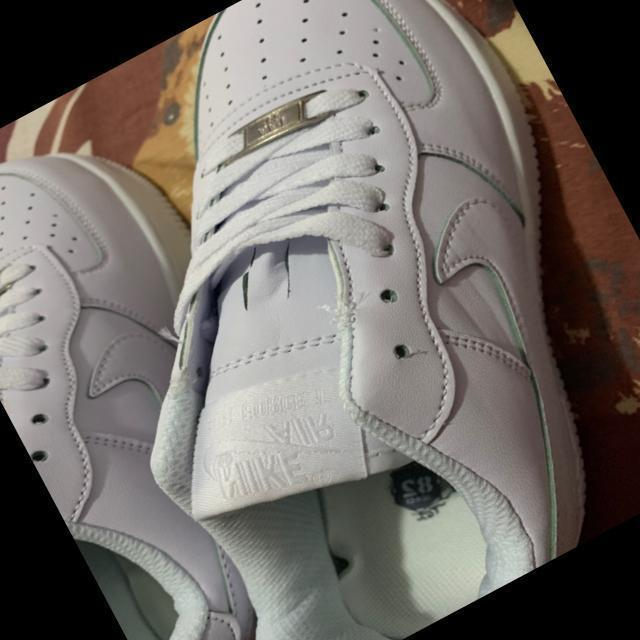nike fake air force: (0, 0, 640, 640), (0, 88, 401, 640)
